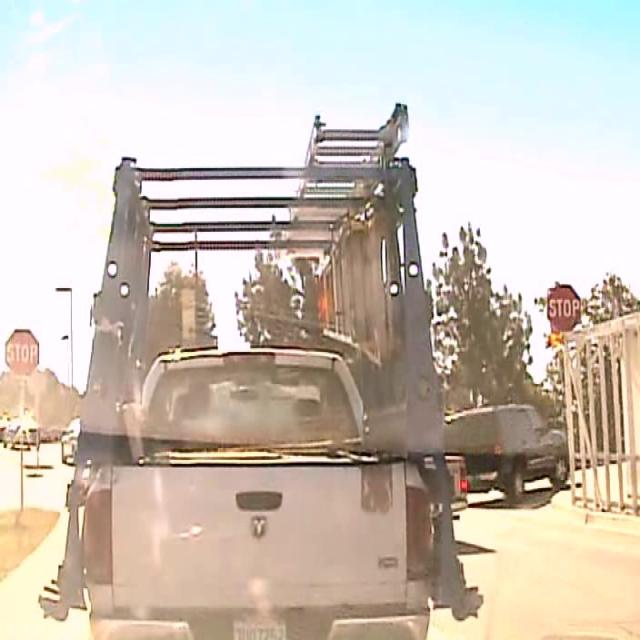stop: (545, 283, 581, 332), (4, 328, 39, 377)
